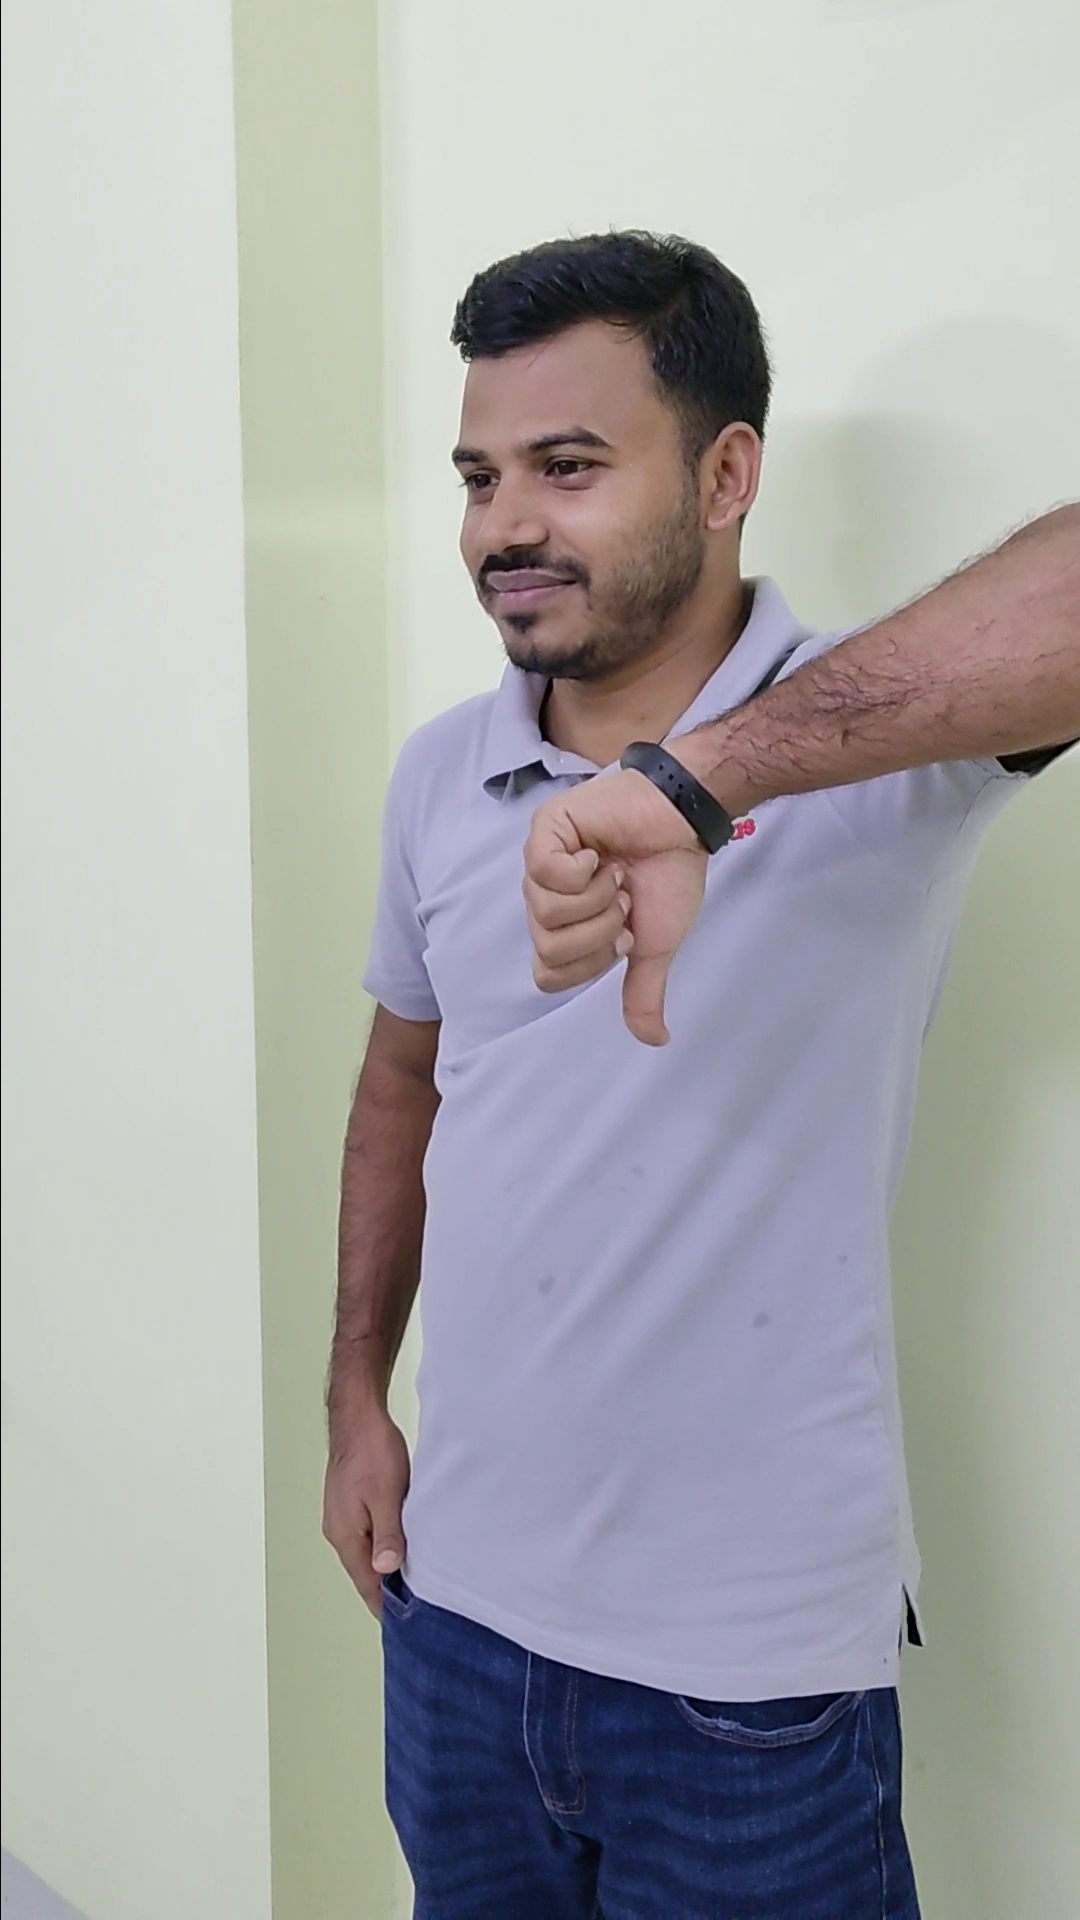Dislike: (488, 733, 717, 1059)
None: (282, 1352, 429, 1644)
